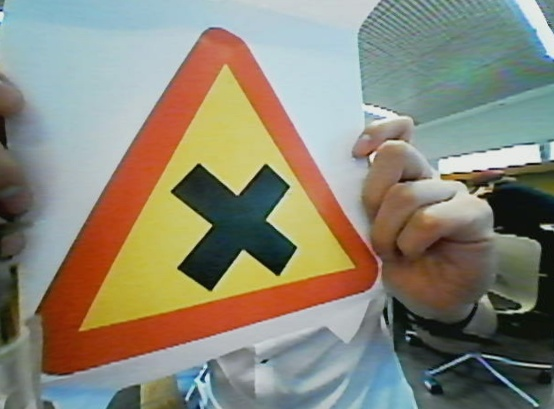junction: (25, 8, 417, 409)
